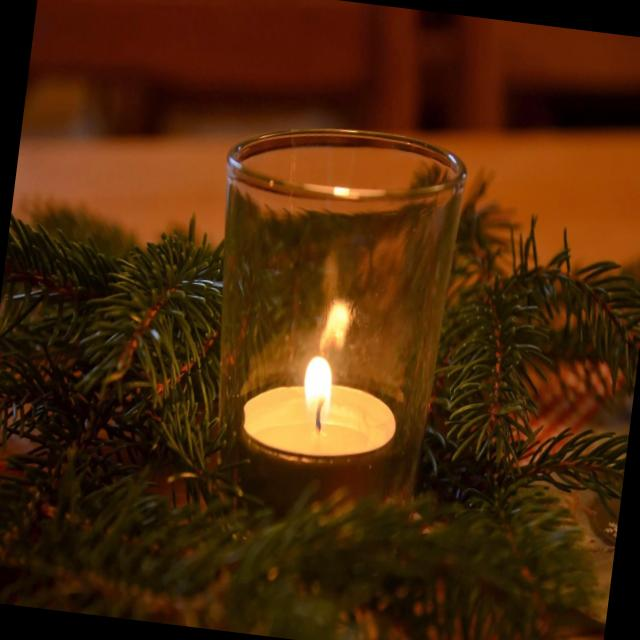Fire_Save: (184, 113, 471, 532)
